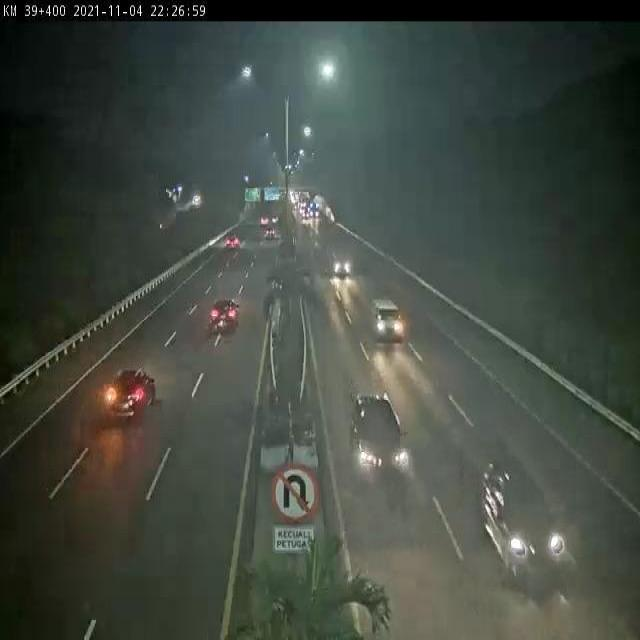car: (478, 454, 564, 574), (349, 391, 410, 481), (106, 362, 156, 418), (373, 296, 408, 344), (209, 299, 240, 333)
